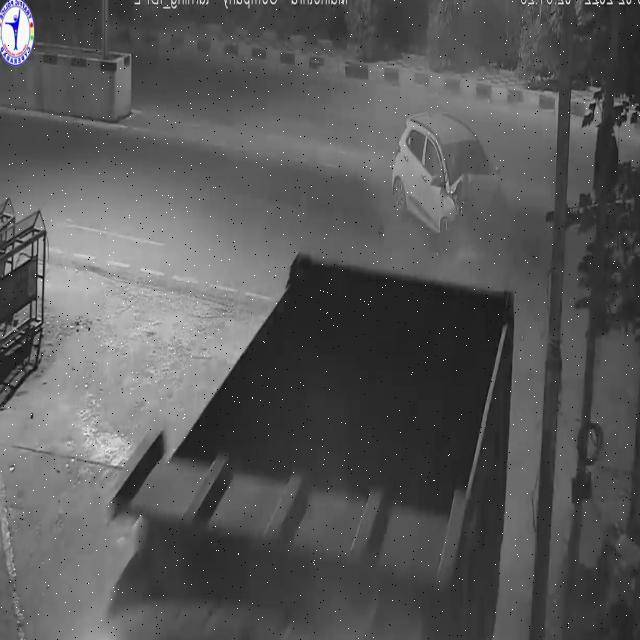accident: (387, 109, 509, 242)
